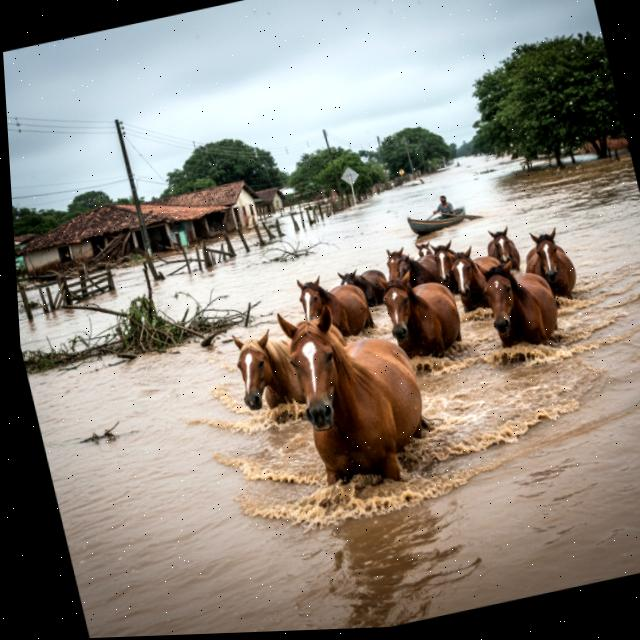civilian: (428, 192, 458, 221)
horse: (262, 284, 458, 516), (217, 317, 327, 433), (370, 256, 475, 372), (470, 245, 571, 365), (290, 265, 384, 353), (442, 236, 520, 319), (515, 220, 587, 304), (378, 237, 450, 299), (426, 234, 482, 303), (331, 260, 396, 315), (481, 222, 530, 279), (410, 232, 448, 273)
